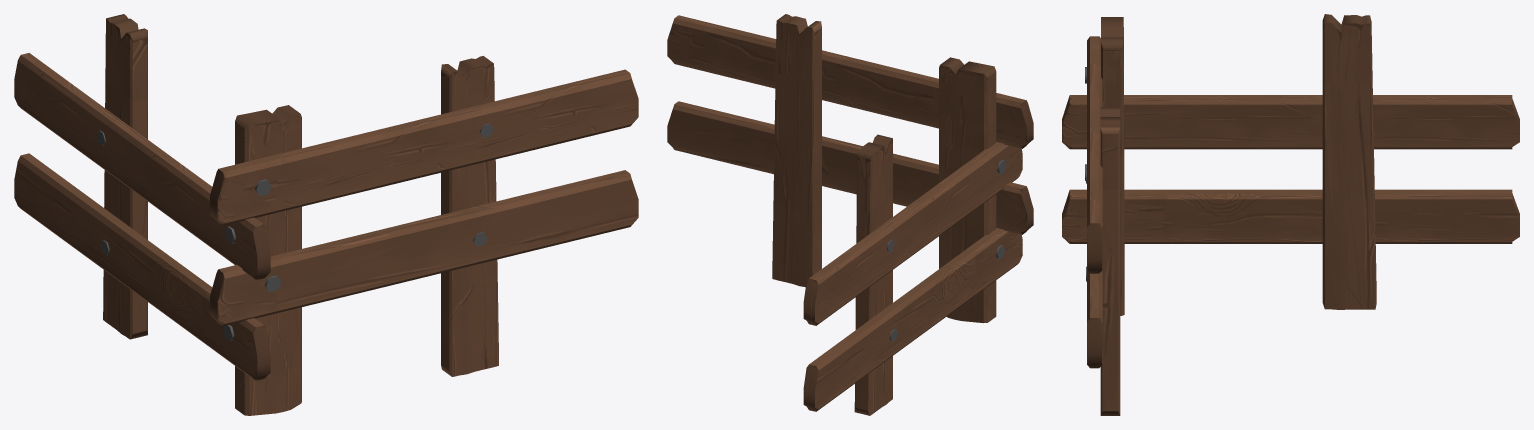
File: Fence Corner.FBX
3 renders of one model, left to right at view 1: azimuth 30°, elevation 25°; view 2: azimuth 150°, elevation 25°; view 3: azimuth 270°, elevation 25°, orthographic. The views are drawn at different scales.
Visible parts, largest first — view 1: Box054; view 2: Box054; view 3: Box054.
Part boxes in pixels (<box>): Box054: <box>14,14,638,415</box>; Box054: <box>667,14,1033,415</box>; Box054: <box>1062,14,1519,415</box>.
Size of the model in its own units: 19.86 by 13.78 by 19.86.
